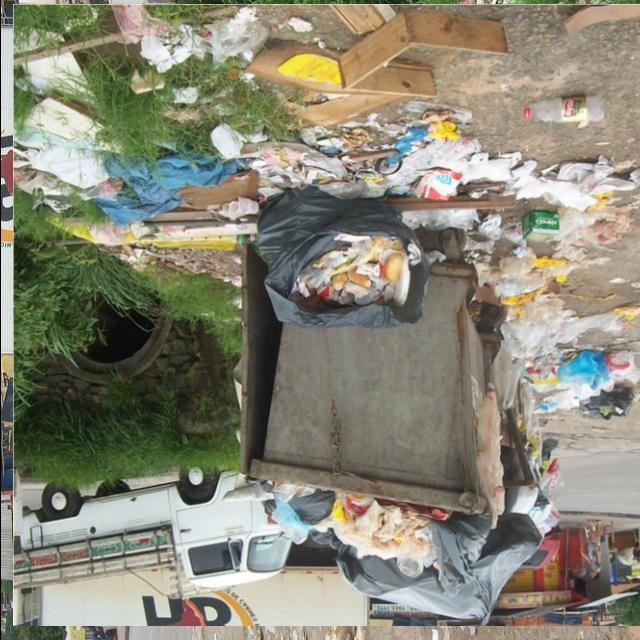Trashbag: (242, 190, 440, 350), (307, 500, 548, 626)
